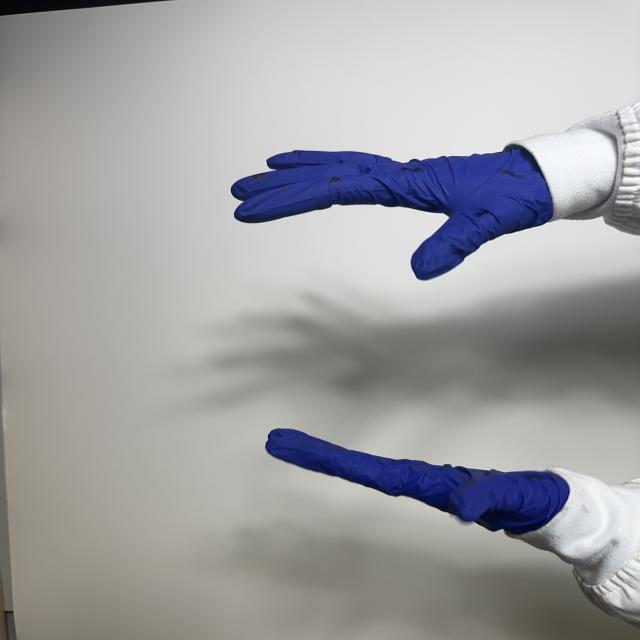gloves_contaminated: (232, 150, 552, 280), (267, 434, 569, 534)
